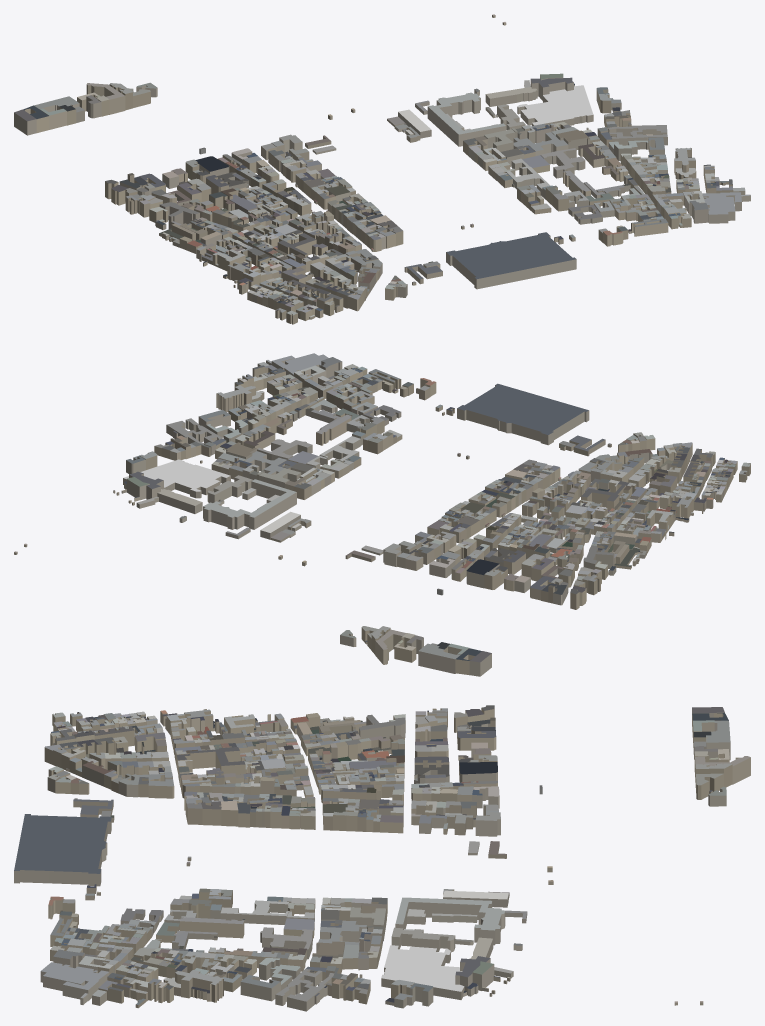
The picture shows the model from 3 angles, top to bottom: view 1: azimuth 30°, elevation 25°; view 2: azimuth 150°, elevation 25°; view 3: azimuth 270°, elevation 25°; orthographic projection. The views are drawn at different scales.
Parts seen in each view (by area): view 1: tuile; view 2: tuile; view 3: tuile.
Part boxes in pixels (bbox=[...]): tuile: bbox=[14, 14, 750, 324]; tuile: bbox=[14, 353, 750, 676]; tuile: bbox=[14, 705, 750, 1011].
Bounding box in the file's own units: 1019 × 39.58 × 1095.
